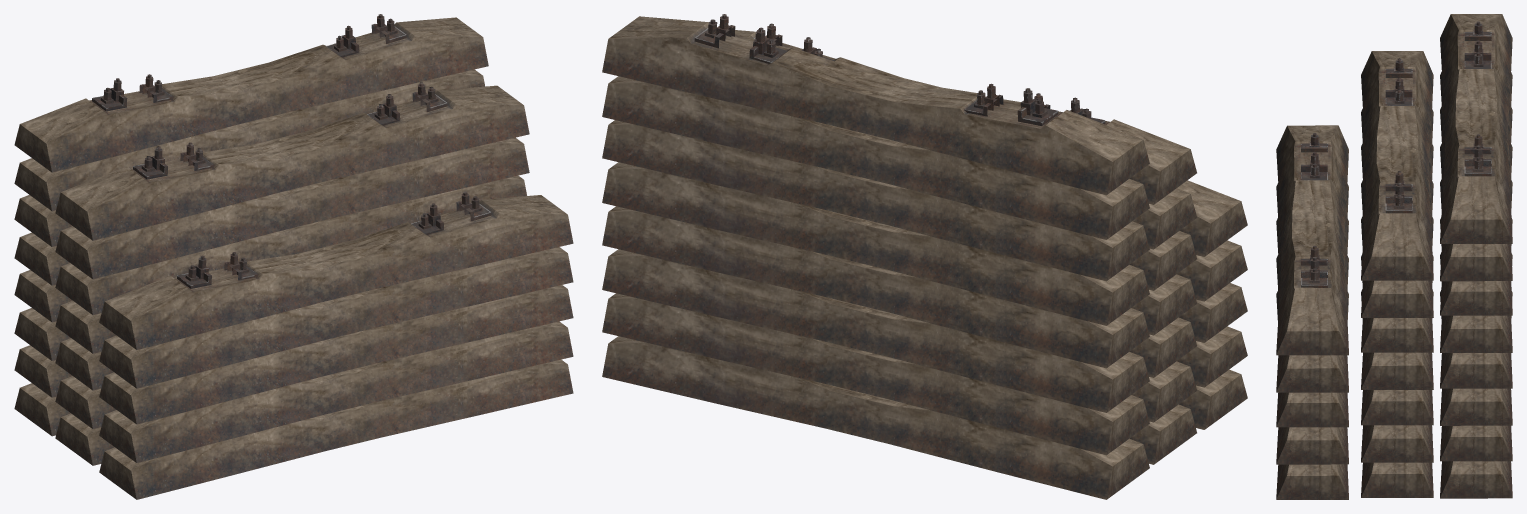
The model's file is HJ_MKTS_008.FBX.
3 views of the same model, side by side, from view 1: azimuth 30°, elevation 25°; view 2: azimuth 150°, elevation 25°; view 3: azimuth 270°, elevation 25° (orthographic). The views are drawn at different scales.
Visible parts, largest first — view 1: HJ_MKTS_008; view 2: HJ_MKTS_008; view 3: HJ_MKTS_008.
Part boxes in pixels (x1,y1,x2,y2): HJ_MKTS_008: (14,14,573,499); HJ_MKTS_008: (602,14,1247,499); HJ_MKTS_008: (1276,14,1512,499).
Size of the model in its own units: 1.25 by 0.8846 by 0.6073.
1 material, 1 textured.
